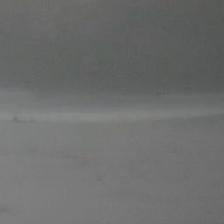surfer: (10, 114, 36, 123)
